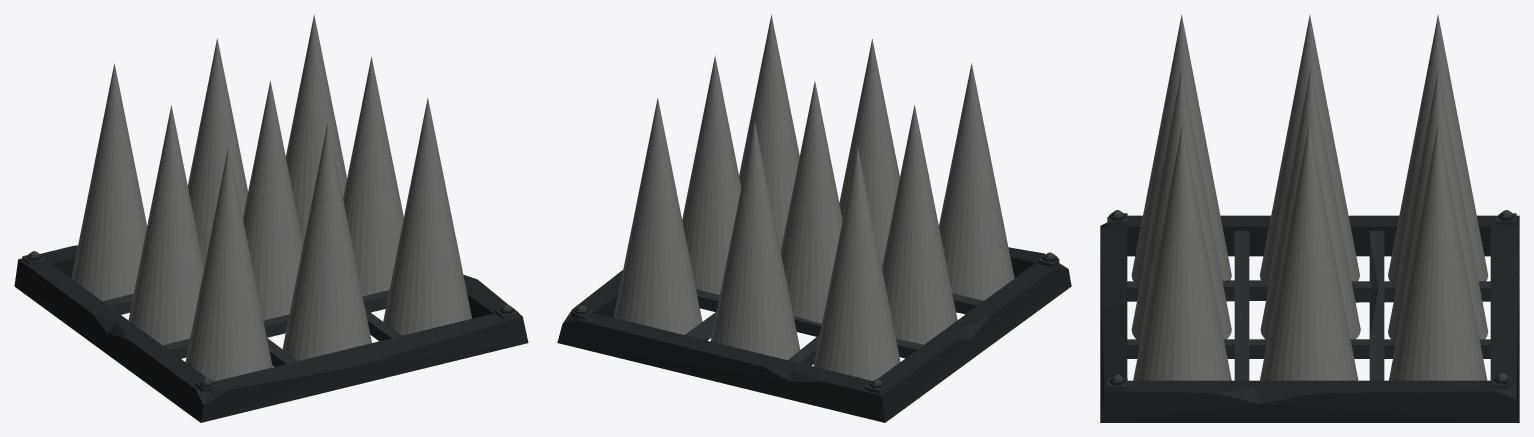
The model's file is spikes2_1.fbx.
The picture shows the model from 3 angles, left to right: view 1: azimuth 30°, elevation 25°; view 2: azimuth 150°, elevation 25°; view 3: azimuth 270°, elevation 25°; orthographic projection. The views are drawn at different scales.
Visible parts, largest first — view 1: Spikes, SM_Env_Floor_Grate_01; view 2: Spikes, SM_Env_Floor_Grate_01; view 3: Spikes, SM_Env_Floor_Grate_01.
Boxes of the visible parts, x1,y1,x2,y2 form: Spikes: [71, 14, 471, 381]; SM_Env_Floor_Grate_01: [14, 245, 528, 422]; Spikes: [613, 14, 1014, 380]; SM_Env_Floor_Grate_01: [557, 247, 1071, 422]; Spikes: [1131, 14, 1488, 380]; SM_Env_Floor_Grate_01: [1100, 210, 1519, 422].
Size of the model in its own units: 125 by 85.43 by 123.
Materials: 2 (2 with a texture image).
